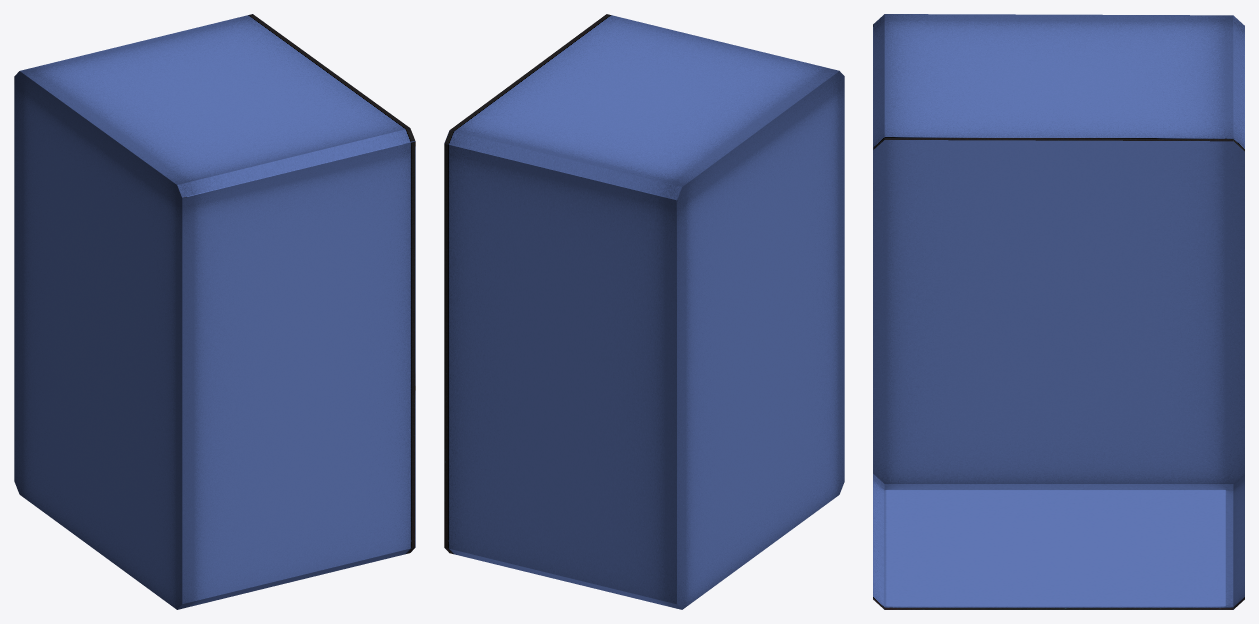
The model's file is Elevator.obj.
3 renders of one model, left to right at view 1: azimuth 30°, elevation 25°; view 2: azimuth 150°, elevation 25°; view 3: azimuth 270°, elevation 25°, orthographic. The views are drawn at different scales.
Parts seen in each view (by area): view 1: Combined_Mesh_(root:_scene); view 2: Combined_Mesh_(root:_scene); view 3: Combined_Mesh_(root:_scene).
Part boxes in pixels (x1,y1,x2,y2): Combined_Mesh_(root:_scene): (14, 14, 415, 609); Combined_Mesh_(root:_scene): (444, 14, 844, 609); Combined_Mesh_(root:_scene): (873, 14, 1244, 609).
Size of the model in its own units: 0.1104 by 0.1923 by 0.1378.
1 material, 1 textured.
